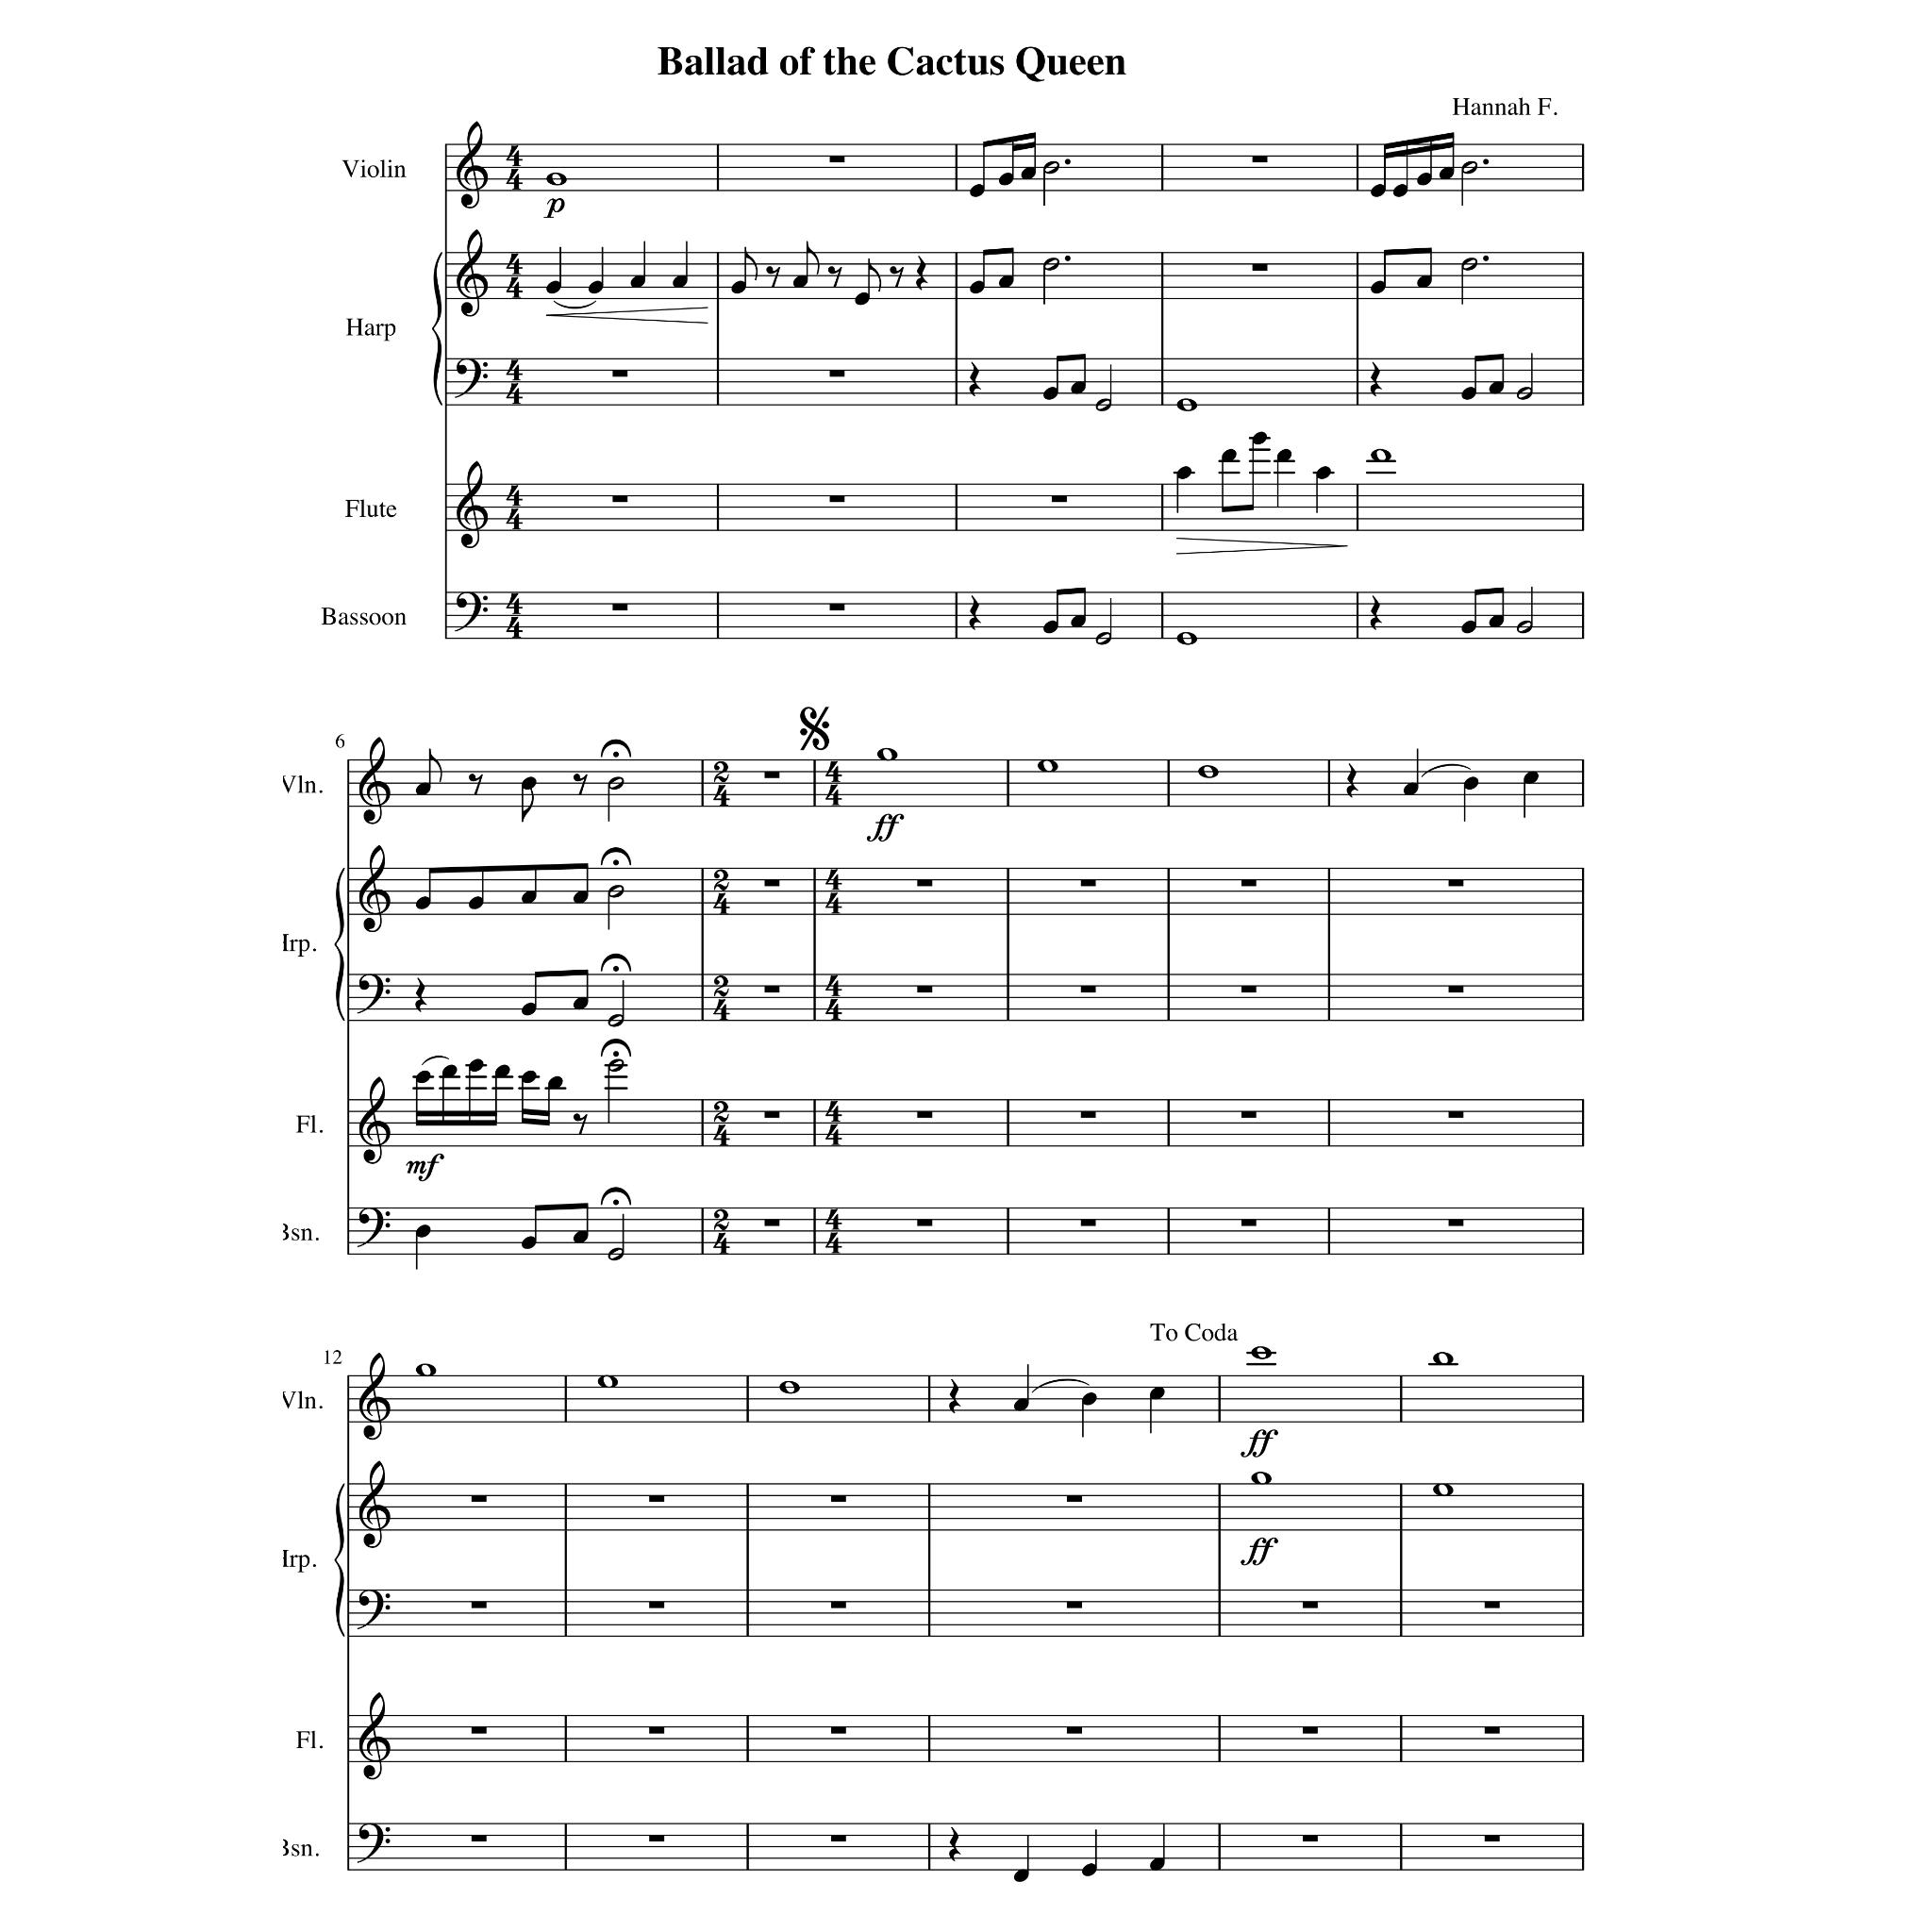brace: (333, 1483, 345, 1638), (333, 867, 345, 1021), (432, 251, 442, 407)
fClef: (453, 357, 488, 398), (453, 593, 488, 633), (357, 1207, 391, 1247), (357, 1822, 391, 1863), (357, 1589, 391, 1629), (357, 975, 391, 1014)
flag8thDown: (522, 789, 534, 823)
flag8thUp: (807, 241, 819, 276), (430, 748, 442, 784), (745, 248, 757, 281), (869, 258, 881, 292)
gClef: (359, 736, 391, 826), (359, 1076, 391, 1166), (359, 1460, 391, 1550), (456, 460, 488, 548), (456, 230, 488, 318), (456, 120, 488, 209), (359, 844, 391, 932), (359, 1691, 391, 1780), (359, 1352, 391, 1440)
noteheadBlack: (1177, 465, 1192, 479), (1316, 465, 1332, 479), (1251, 432, 1267, 446), (1438, 166, 1454, 180), (1417, 172, 1433, 186), (1488, 380, 1504, 395), (855, 292, 870, 306), (1021, 166, 1037, 180), (998, 172, 1014, 186), (1070, 380, 1086, 395), (467, 1058, 483, 1072), (522, 1235, 538, 1249), (522, 1070, 538, 1085), (522, 890, 538, 904), (414, 1224, 430, 1238), (414, 1070, 430, 1085), (571, 890, 587, 904), (547, 1076, 563, 1090), (571, 1230, 587, 1244), (1150, 1858, 1166, 1872), (1150, 1387, 1166, 1401), (1081, 1863, 1097, 1877), (1012, 1868, 1028, 1882), (1012, 1398, 1028, 1412), (1369, 184, 1387, 196), (1369, 281, 1387, 294), (545, 281, 563, 294), (1276, 449, 1292, 462), (1221, 449, 1237, 462), (1461, 387, 1477, 400), (1461, 621, 1477, 633), (1417, 276, 1433, 288), (1392, 184, 1408, 196), (1488, 616, 1504, 628), (731, 281, 747, 294), (672, 276, 688, 288), (793, 276, 809, 288), (630, 276, 646, 288), (587, 281, 603, 294), (1042, 621, 1058, 633), (1042, 387, 1058, 400), (998, 276, 1014, 288), (1070, 616, 1086, 628), (970, 281, 985, 294), (970, 184, 985, 196), (1523, 771, 1539, 784), (1463, 777, 1479, 789), (1403, 784, 1419, 796), (467, 897, 483, 909), (441, 1065, 456, 1077), (522, 1003, 538, 1016), (522, 777, 538, 789), (494, 1065, 510, 1077), (414, 897, 430, 909), (414, 784, 430, 796), (571, 998, 587, 1010), (1081, 1392, 1097, 1405)
noteheadHalf: (1460, 161, 1477, 175), (1042, 161, 1060, 175), (607, 1247, 625, 1261), (607, 1058, 625, 1072), (607, 1014, 625, 1028), (607, 885, 625, 899), (1095, 632, 1111, 646), (1460, 258, 1477, 271), (1042, 258, 1060, 271), (607, 777, 625, 789), (1516, 621, 1532, 633), (1516, 387, 1532, 400), (1095, 400, 1111, 412)
noteheadWhole: (545, 172, 568, 186), (596, 1375, 619, 1389), (1177, 632, 1198, 646), (1198, 764, 1219, 778), (876, 748, 897, 763), (1037, 759, 1058, 773), (1431, 1483, 1453, 1497), (1251, 1346, 1272, 1361), (1431, 1352, 1453, 1366), (414, 1364, 437, 1376), (1369, 449, 1391, 462), (1177, 400, 1198, 412), (1251, 1472, 1272, 1484), (778, 1382, 800, 1394)
rest8th: (888, 265, 904, 288), (764, 265, 780, 288), (467, 773, 483, 796), (828, 265, 842, 288), (573, 773, 587, 796), (573, 1113, 587, 1136)
restQuarter: (1346, 763, 1359, 800), (948, 1826, 961, 1863), (1369, 361, 1382, 396), (970, 361, 982, 396), (948, 1378, 961, 1414), (1369, 596, 1382, 630), (915, 257, 927, 290), (970, 596, 982, 630), (414, 978, 426, 1012)
restWhole: (828, 603, 844, 612), (1251, 264, 1267, 272), (612, 603, 628, 612), (1483, 1601, 1500, 1608), (1483, 1835, 1500, 1842), (1483, 1727, 1500, 1734), (828, 156, 844, 163), (828, 370, 844, 377), (828, 495, 844, 502), (1051, 495, 1067, 502), (1251, 156, 1267, 163), (612, 495, 628, 502), (612, 370, 628, 377), (1079, 1111, 1095, 1118), (1079, 1219, 1095, 1226), (1240, 879, 1256, 886), (1240, 985, 1256, 993), (1240, 1111, 1256, 1118), (1240, 1219, 1256, 1226), (1079, 985, 1095, 993), (764, 771, 780, 778), (764, 879, 780, 886), (764, 985, 780, 993), (764, 1111, 780, 1118), (764, 1219, 780, 1226), (916, 879, 932, 886), (916, 985, 932, 993), (916, 1111, 932, 1118), (916, 1219, 932, 1226), (1079, 879, 1095, 886), (1447, 1219, 1463, 1226), (1447, 1111, 1463, 1118), (1447, 985, 1463, 993), (1447, 879, 1463, 886), (830, 1495, 846, 1502), (649, 1727, 665, 1734), (649, 1835, 665, 1842), (649, 1601, 665, 1608), (649, 1495, 665, 1502), (1302, 1601, 1318, 1608), (1302, 1727, 1318, 1734), (830, 1601, 846, 1608), (830, 1727, 846, 1734), (1302, 1835, 1318, 1842), (1067, 1727, 1083, 1734), (1067, 1601, 1083, 1608), (1067, 1495, 1083, 1502), (830, 1835, 846, 1842), (471, 1835, 487, 1842), (471, 1727, 487, 1734), (471, 1601, 487, 1608), (471, 1495, 487, 1502)
